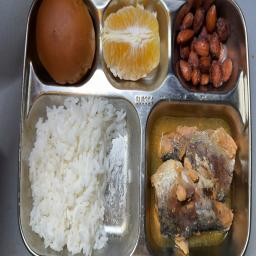100_bread: (31, 0, 98, 84)
100_fish: (148, 105, 241, 253)
100_nuts: (177, 8, 235, 90)
100_orange: (100, 6, 162, 83)
75_rice: (23, 92, 140, 256)
